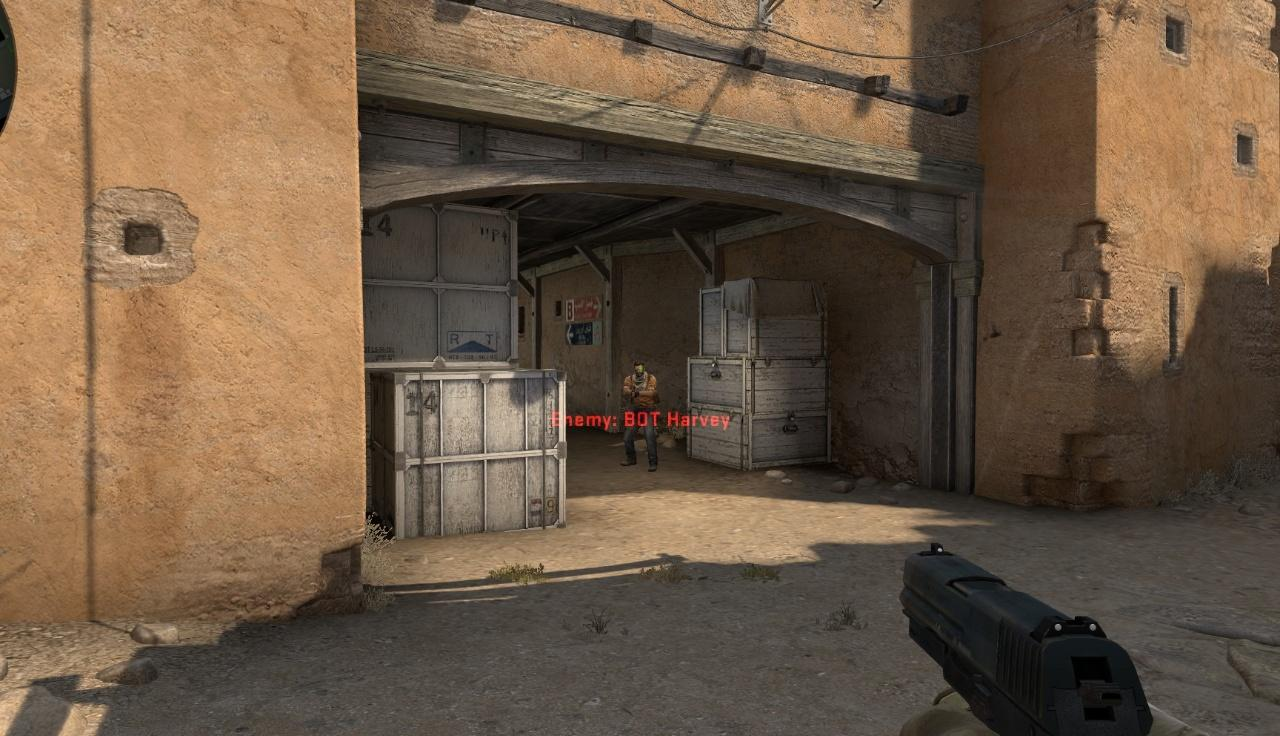pistol: (901, 544, 1151, 736)
tt: (624, 362, 657, 471)
tthead: (634, 362, 644, 378)
